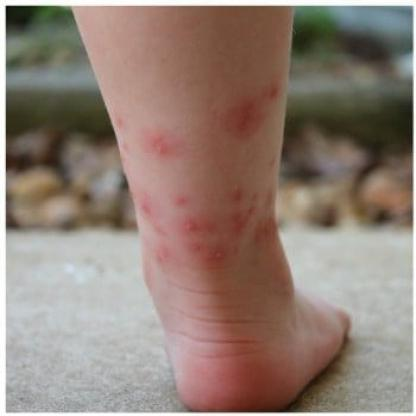Fire ant: (227, 103, 263, 136), (225, 205, 253, 238), (255, 215, 277, 252), (146, 129, 171, 158), (178, 218, 215, 233), (260, 80, 282, 101), (151, 244, 171, 262), (109, 111, 126, 132), (208, 247, 229, 262), (116, 140, 132, 159), (226, 187, 245, 202), (172, 189, 189, 205), (187, 236, 202, 254), (150, 219, 165, 235), (264, 188, 274, 209), (138, 198, 150, 214), (266, 151, 277, 168), (250, 188, 259, 200)
